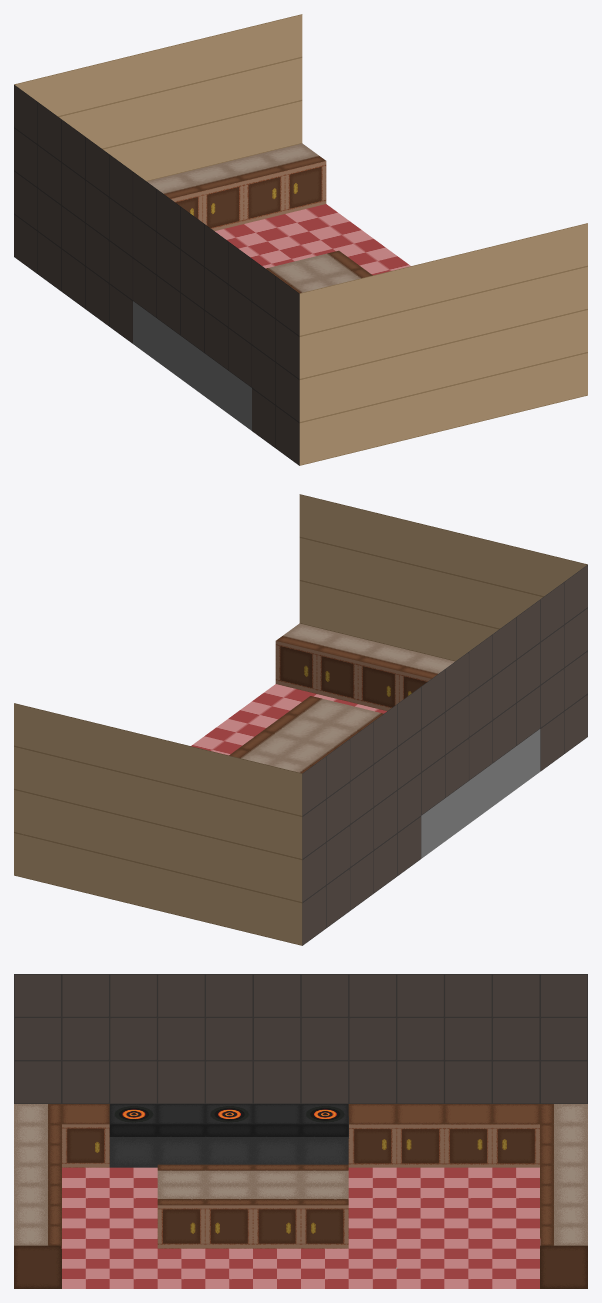
Rendered from chefshackkitchen.dae.
3 views of the same model, one above another, from view 1: azimuth 30°, elevation 25°; view 2: azimuth 150°, elevation 25°; view 3: azimuth 270°, elevation 25° (orthographic).
Visible parts, largest first — view 1: chefshack-col; view 2: chefshack-col; view 3: chefshack-col.
Part boxes in pixels (x1=…): chefshack-col: x1=14, y1=14, x2=587, y2=465; chefshack-col: x1=14, y1=494, x2=587, y2=945; chefshack-col: x1=14, y1=974, x2=587, y2=1288.
Size of the model in its own units: 13.56 by 23.25 by 7.78.
1 material, 1 textured.
